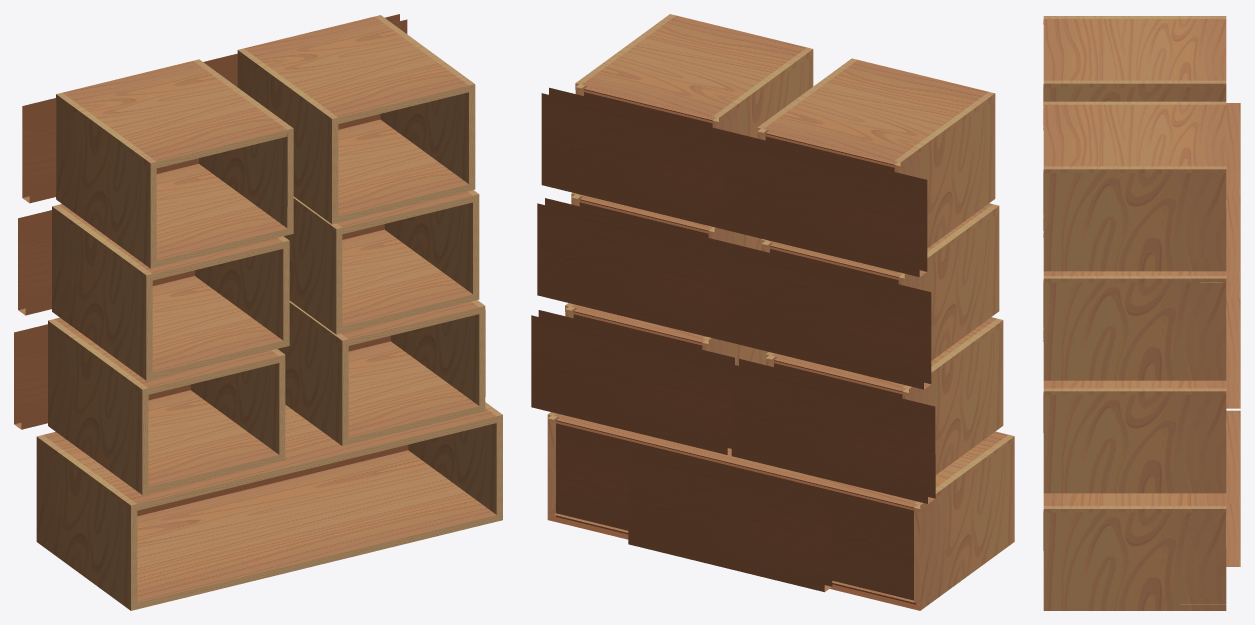
File: layout_wide_4s_2_column_wide_bot.fbx
3 views of the same model, side by side, from view 1: azimuth 30°, elevation 25°; view 2: azimuth 150°, elevation 25°; view 3: azimuth 270°, elevation 25° (orthographic). The views are drawn at different scales.
Parts seen in each view (by area): view 1: Shelf-BM-00, Shelf-TM-00 5, Shelf-TM-00 6, Shelf-CL-01, Shelf-CL-01 3, Shelf-CL-01 1, Shelf-CL-01 5, Shelf-BM-00 5, Shelf-BM-00 2, Shelf-BM-00 3, Shelf-BM-00 1, Shelf-BM-00 4 (+32 smaller); view 2: Shelf-Back-00 (1), Shelf-Back-00 (1) 5, Shelf-Back-00 (1) 1, Shelf-Back-00 (1) 3, Shelf-Back-00 (1) 2, Shelf-Back-00 (1) 4, Shelf-Back-00 (1) 6, Shelf-Back-00, Shelf-TM-00 5, Shelf-TM-00 6, Shelf-CL-01, Shelf-CL-01 5 (+25 smaller); view 3: Shelf-CR-01, Shelf-CR-01 4, Shelf-CR-01 2, Shelf-CR-01 6, Shelf-TM-00 6, Shelf-TM-00 5, Shelf-CR-01 5, Shelf-TM-00, Shelf-TM-00 2, Shelf-CR-00 (1) 5, Shelf-CR-00 2, Shelf-CR-00 6 (+15 smaller).
Boxes of the visible parts, box(x1,y1,x2,y2) form: Shelf-BM-00: box(137, 450, 496, 609); Shelf-TM-00 5: box(63, 61, 287, 168); Shelf-TM-00 6: box(244, 16, 468, 123); Shelf-CL-01: box(36, 440, 137, 604); Shelf-CL-01 3: box(52, 210, 152, 373); Shelf-CL-01 1: box(48, 324, 148, 488); Shelf-CL-01 5: box(56, 98, 156, 261); Shelf-BM-00 5: box(156, 164, 287, 266); Shelf-BM-00 2: box(348, 341, 479, 444); Shelf-BM-00 3: box(152, 276, 283, 378); Shelf-BM-00 1: box(148, 390, 279, 493); Shelf-BM-00 4: box(342, 229, 472, 332); Shelf-Back-00 (1): box(628, 447, 832, 592); Shelf-Back-00 (1) 5: box(723, 132, 927, 277); Shelf-Back-00 (1) 1: box(731, 358, 935, 503); Shelf-Back-00 (1) 3: box(727, 244, 931, 389); Shelf-Back-00 (1) 2: box(531, 310, 734, 454); Shelf-Back-00 (1) 4: box(537, 198, 740, 343); Shelf-Back-00 (1) 6: box(541, 87, 745, 229); Shelf-Back-00: box(556, 417, 917, 604); Shelf-TM-00 5: box(764, 60, 988, 167); Shelf-TM-00 6: box(582, 15, 806, 123); Shelf-CL-01: box(914, 440, 1014, 603); Shelf-CL-01 5: box(894, 100, 995, 241); Shelf-CR-01: box(1043, 510, 1226, 604); Shelf-CR-01 4: box(1043, 280, 1226, 374); Shelf-CR-01 2: box(1043, 392, 1226, 486); Shelf-CR-01 6: box(1043, 170, 1226, 264); Shelf-TM-00 6: box(1043, 104, 1226, 166); Shelf-TM-00 5: box(1043, 19, 1226, 80); Shelf-CR-01 5: box(1043, 84, 1225, 124); Shelf-TM-00: box(1043, 493, 1226, 505); Shelf-TM-00 2: box(1043, 380, 1226, 388); Shelf-CR-00 (1) 5: box(1043, 80, 1226, 89); Shelf-CR-00 2: box(1043, 486, 1226, 493); Shelf-CR-00 6: box(1043, 264, 1226, 271).
Size of the model in its own units: 194 by 207 by 86.3.
